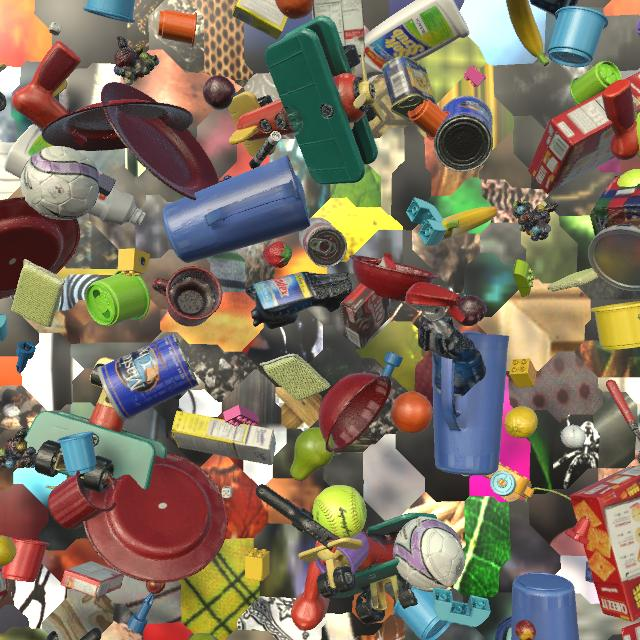ycb_002_master_chef_can: (98, 333, 199, 421), (434, 95, 493, 172)
ycb_003_cracker_box: (528, 72, 640, 194), (569, 466, 640, 622), (621, 622, 640, 640)
ycb_004_sugar_box: (172, 411, 276, 465), (232, 0, 288, 40)
ycb_005_tomato_soup_can: (299, 217, 347, 267), (0, 568, 9, 602)
ycb_007_tuna_fish_can: (585, 561, 594, 583)
ycb_008_pudding_box: (341, 283, 391, 348), (311, 0, 365, 58)
ycb_009_gelatin_box: (60, 561, 124, 598)
ycb_010_potted_meat_can: (382, 56, 439, 122)
ycb_011_banana: (506, 0, 549, 66), (442, 207, 498, 240), (349, 123, 354, 130), (638, 314, 640, 320)
ycb_012_strawberry: (263, 242, 292, 268)
ycb_014_lemon: (505, 406, 538, 438), (0, 536, 17, 567)
ycb_016_pear: (290, 427, 334, 481), (189, 633, 218, 640)
ycb_017_orange: (391, 391, 433, 433), (275, 0, 314, 20)
ycb_018_plum: (203, 75, 236, 110), (455, 295, 486, 326)
